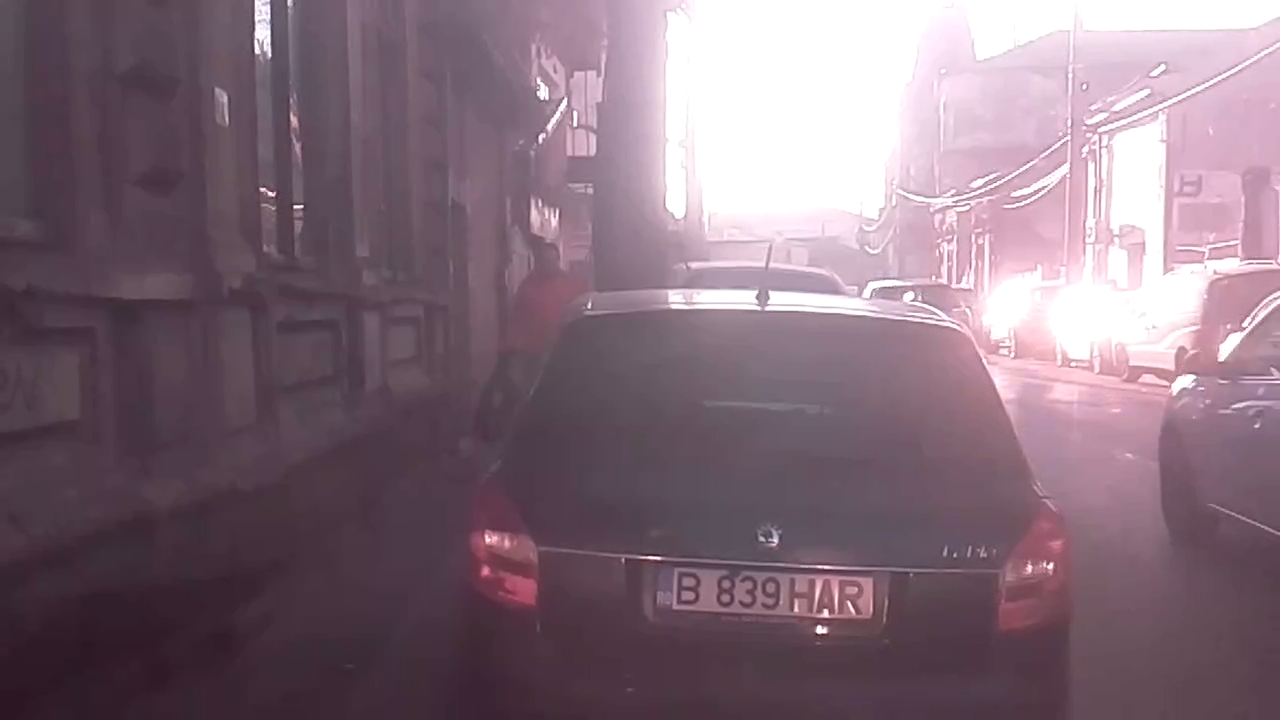license-plate: (652, 558, 883, 627)
